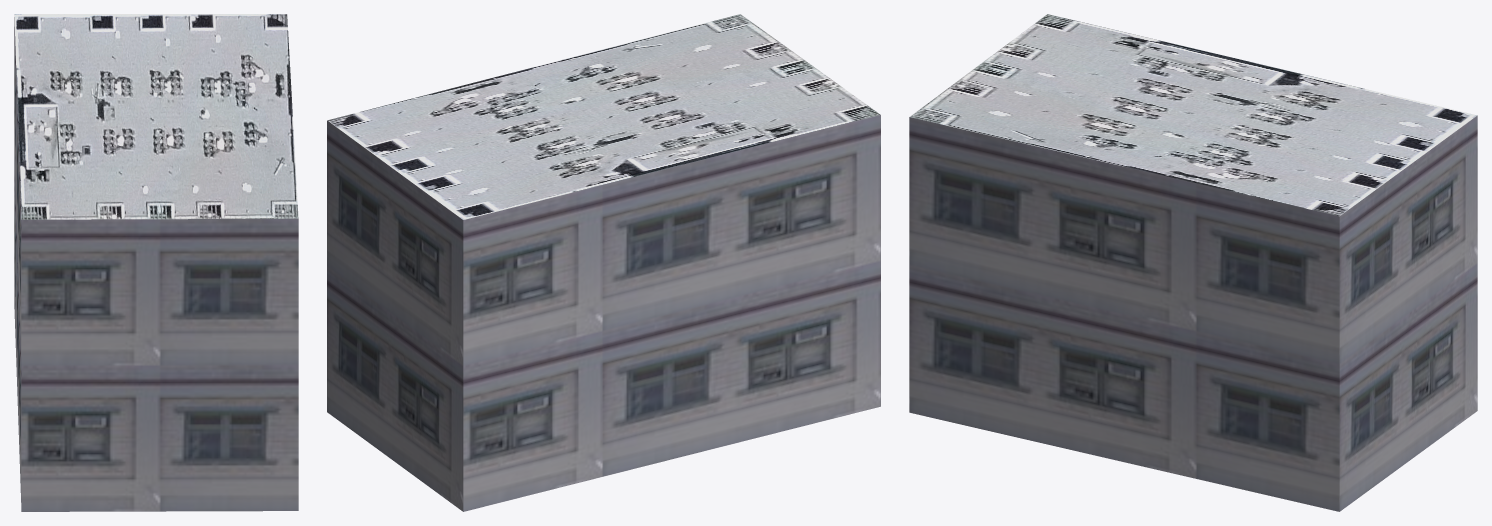
Rendered from ResTex__743.fbx.
The picture shows the model from 3 angles, left to right: view 1: azimuth 30°, elevation 25°; view 2: azimuth 150°, elevation 25°; view 3: azimuth 270°, elevation 25°; orthographic projection.
Parts seen in each view (by area): view 1: CityEngineMaterial_1_m, CityEngineMaterial_m; view 2: CityEngineMaterial_1_m, CityEngineMaterial_m; view 3: CityEngineMaterial_1_m, CityEngineMaterial_m.
Boxes of the visible parts, <box> form: CityEngineMaterial_1_m: <box>14,17,298,511</box>; CityEngineMaterial_m: <box>14,14,298,219</box>; CityEngineMaterial_1_m: <box>327,115,880,511</box>; CityEngineMaterial_m: <box>327,14,880,219</box>; CityEngineMaterial_1_m: <box>909,115,1477,511</box>; CityEngineMaterial_m: <box>910,14,1476,216</box>.
Bounding box in the file's own units: 8.81 × 6 × 10.45.
Materials: 2 (2 with a texture image).
